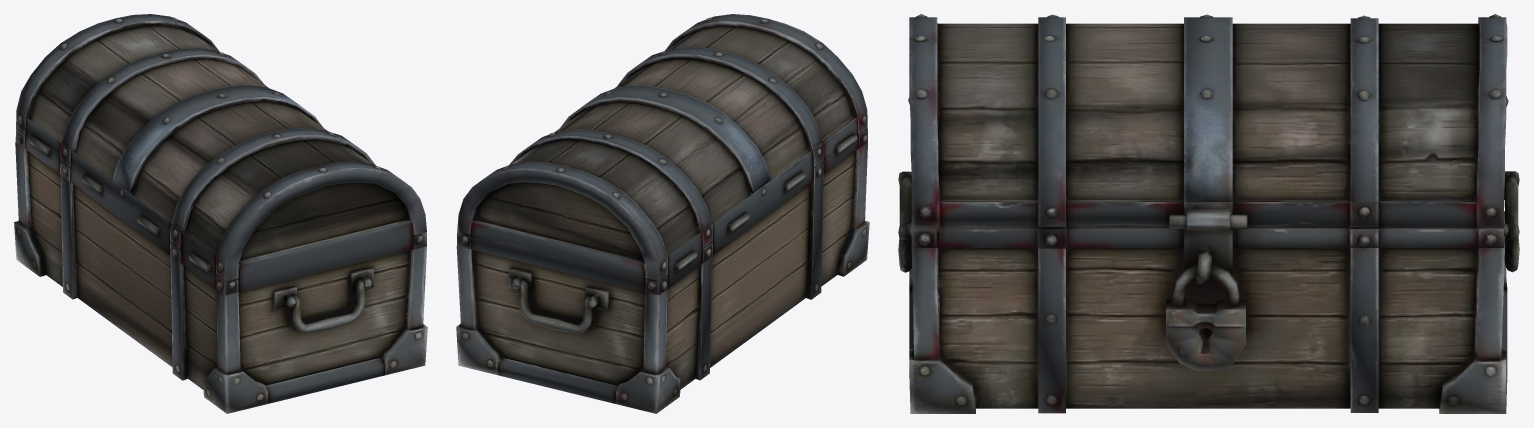
File: chest.glb
The picture shows the model from 3 angles, left to right: view 1: azimuth 30°, elevation 25°; view 2: azimuth 150°, elevation 25°; view 3: azimuth 270°, elevation 25°; orthographic projection. The views are drawn at different scales.
Parts seen in each view (by area): view 1: model; view 2: model; view 3: model.
Part boxes in pixels (<box>): model: <box>14,14,427,413</box>; model: <box>456,14,869,413</box>; model: <box>898,14,1519,413</box>.
Bounding box in the file's own units: 1.09 × 1 × 1.82.
Materials: 1 (1 with a texture image).
